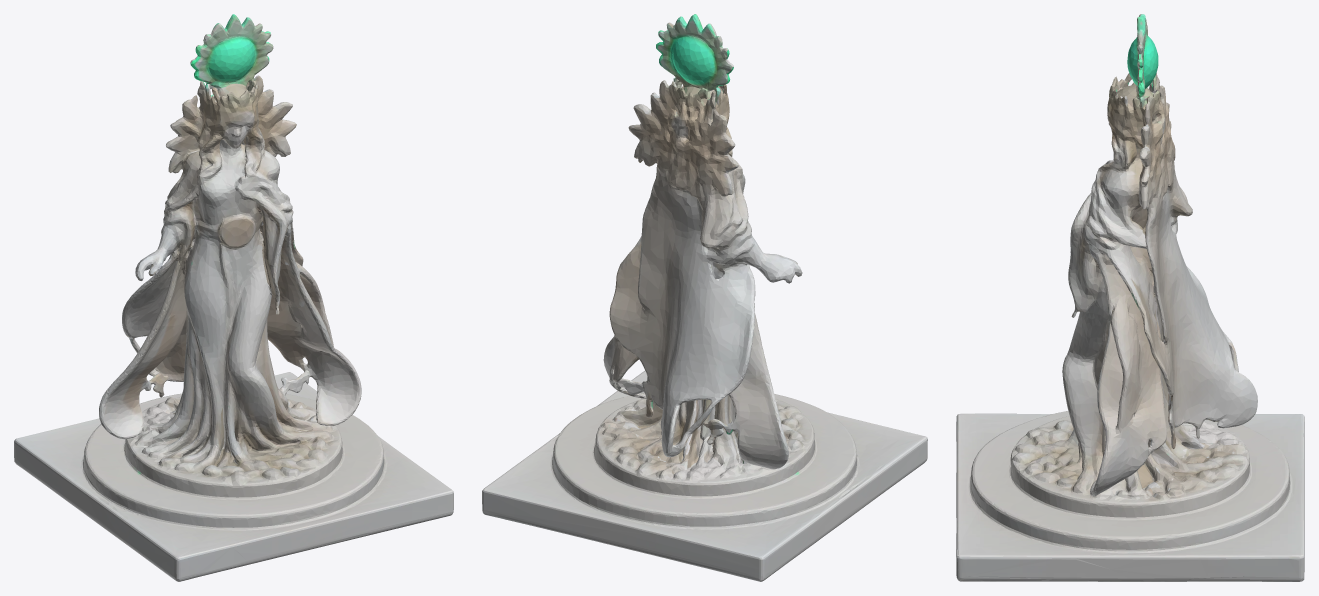
The model's file is statue_of_onyx_goddess.glb.
The picture shows the model from 3 angles, left to right: view 1: azimuth 30°, elevation 25°; view 2: azimuth 150°, elevation 25°; view 3: azimuth 270°, elevation 25°; orthographic projection. The views are drawn at different scales.
Visible parts, largest first — view 1: tmpg1zhrvy_.ply; view 2: tmpg1zhrvy_.ply; view 3: tmpg1zhrvy_.ply.
Part boxes in pixels (box(x1,y1,x2,y2)): tmpg1zhrvy_.ply: box(14, 14, 453, 581); tmpg1zhrvy_.ply: box(482, 14, 927, 581); tmpg1zhrvy_.ply: box(956, 14, 1304, 581).
Bounding box in the file's own units: 1.24 × 2 × 1.26.
Materials: 1 (1 with a texture image).
